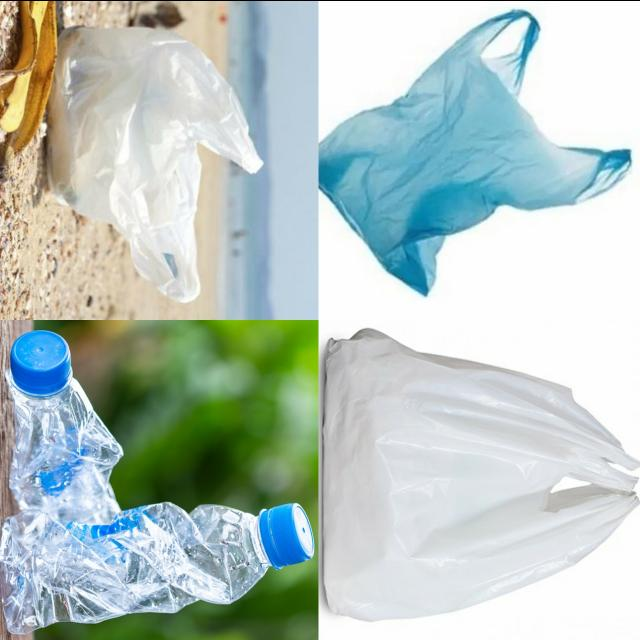plastik: (323, 328, 639, 620), (320, 10, 632, 294), (47, 26, 263, 301), (0, 501, 313, 633), (7, 329, 124, 523)
